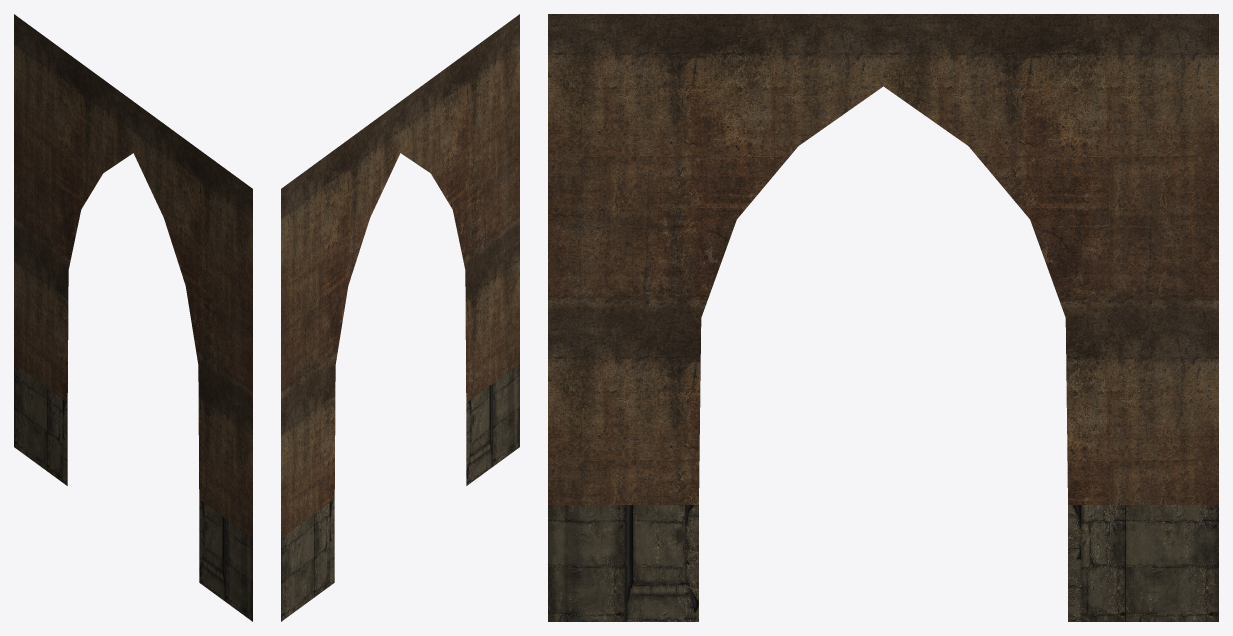
The model's file is NC_wall_doorway_large.DAE.
The picture shows the model from 3 angles, left to right: view 1: azimuth 30°, elevation 25°; view 2: azimuth 150°, elevation 25°; view 3: azimuth 270°, elevation 25°; orthographic projection. The views are drawn at different scales.
Visible parts, largest first — view 1: NC_doorway_large, NC_wall_doorway_large_trim; view 2: NC_doorway_large, NC_wall_doorway_large_trim; view 3: NC_doorway_large, NC_wall_doorway_large_trim.
Part boxes in pixels (bbox=[...]): NC_doorway_large: bbox=[14, 14, 252, 538]; NC_wall_doorway_large_trim: bbox=[14, 364, 252, 621]; NC_doorway_large: bbox=[281, 14, 519, 538]; NC_wall_doorway_large_trim: bbox=[281, 364, 519, 621]; NC_doorway_large: bbox=[548, 14, 1218, 504]; NC_wall_doorway_large_trim: bbox=[548, 505, 1218, 621].
Size of the model in its own units: 0 by 8 by 8.
